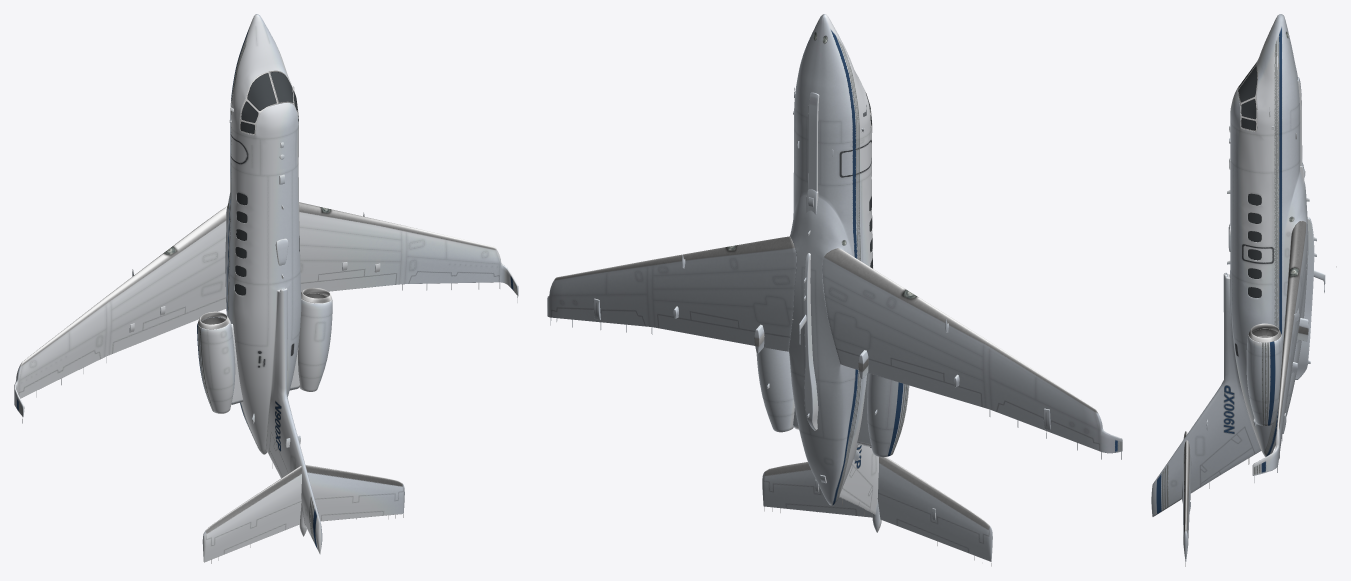
3 views of the same model, side by side, from view 1: azimuth 30°, elevation 25°; view 2: azimuth 150°, elevation 25°; view 3: azimuth 270°, elevation 25° (orthographic). The views are drawn at different scales.
Parts seen in each view (by area): view 1: 11805_airplane_v2_L2; view 2: 11805_airplane_v2_L2; view 3: 11805_airplane_v2_L2.
Boxes of the visible parts, x1,y1,x2,y2 form: 11805_airplane_v2_L2: [14, 14, 518, 563]; 11805_airplane_v2_L2: [547, 14, 1122, 566]; 11805_airplane_v2_L2: [1151, 14, 1325, 566].
Size of the model in its own units: 1577 by 1502 by 501.
3 materials, 2 textured.
